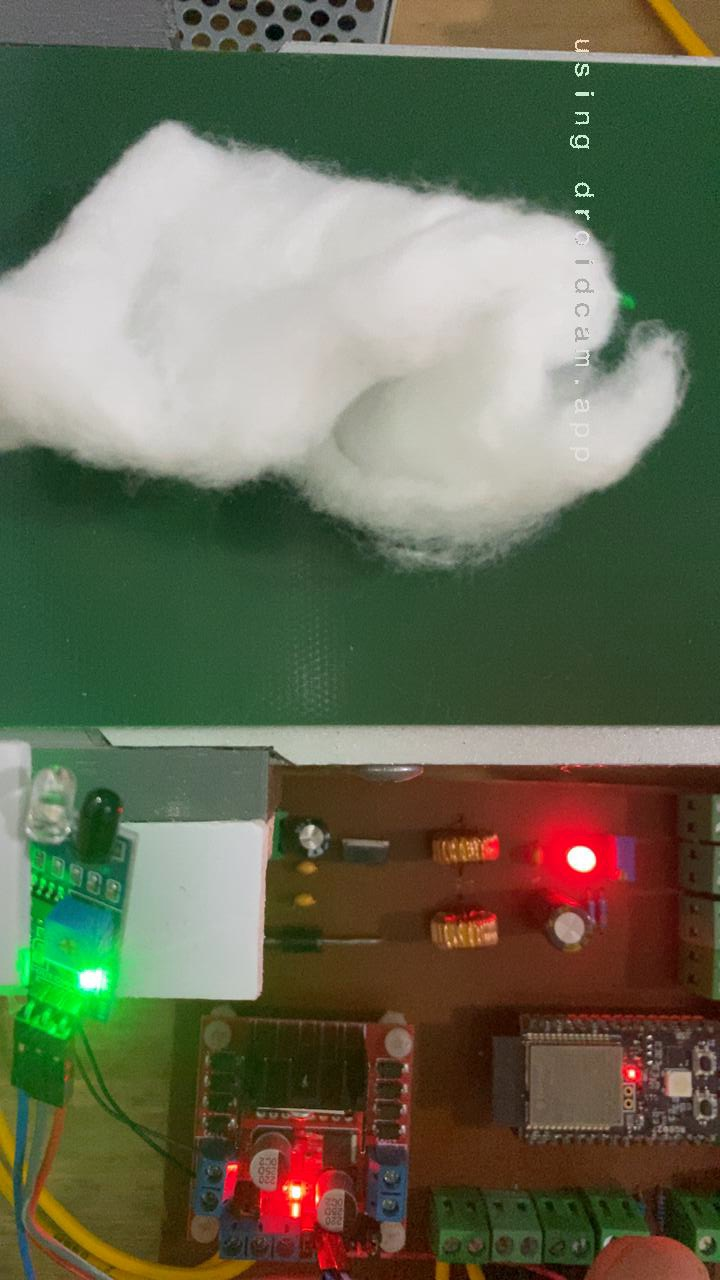cotton: (0, 114, 696, 574)
